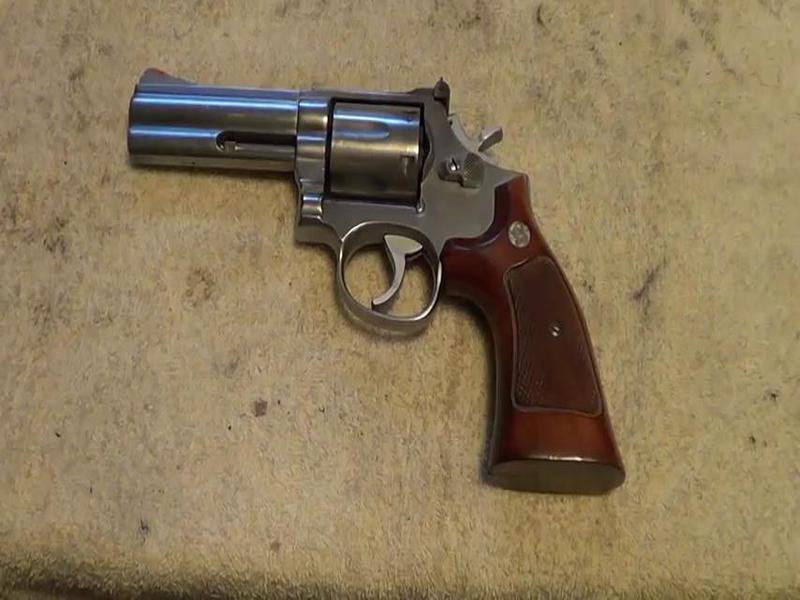Revolver: (117, 41, 719, 516)
